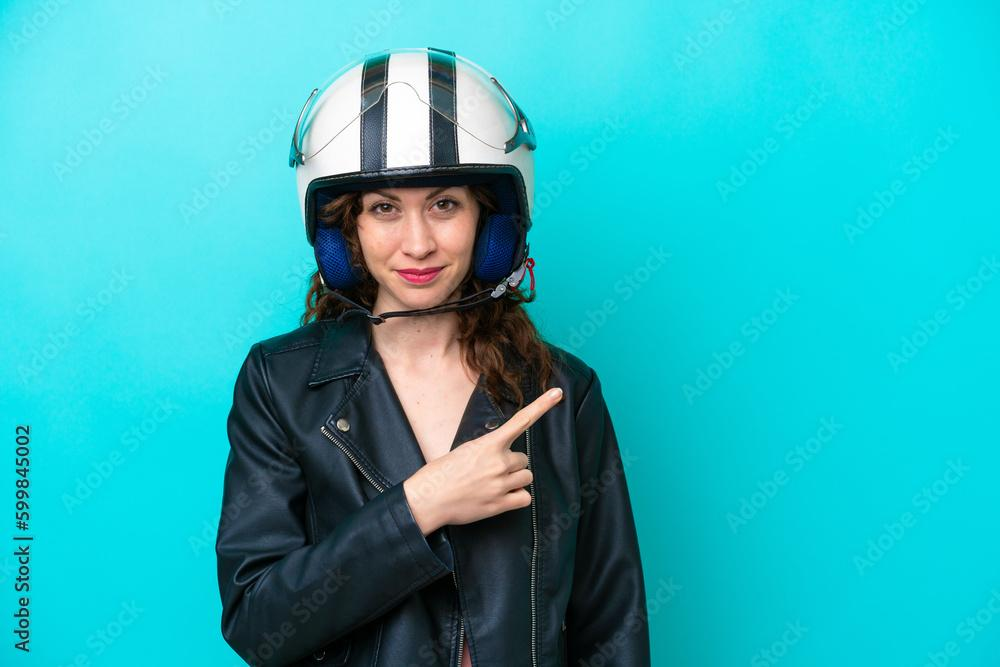helmet: (287, 44, 540, 327)
